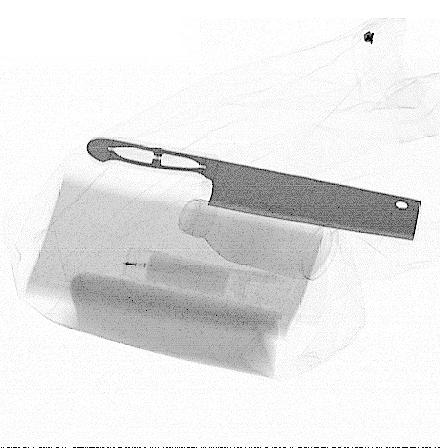Knife: (85, 136, 424, 241)
